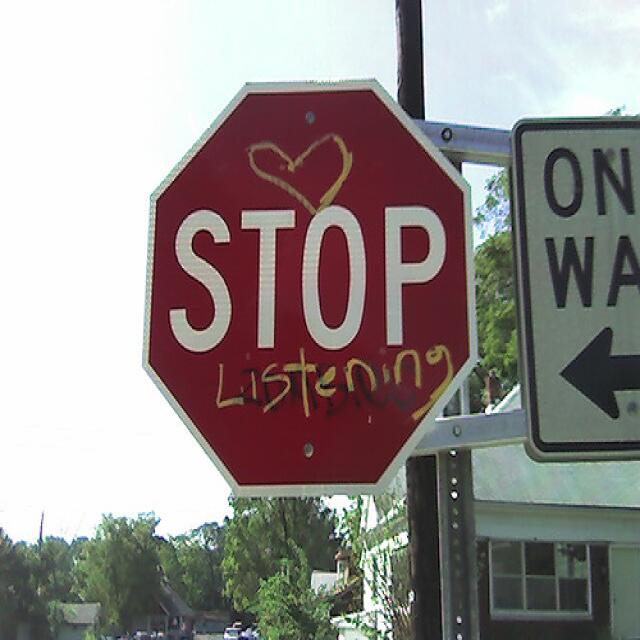Vehicle: (223, 627, 238, 640), (242, 628, 257, 639), (134, 630, 150, 640), (232, 624, 244, 635)
